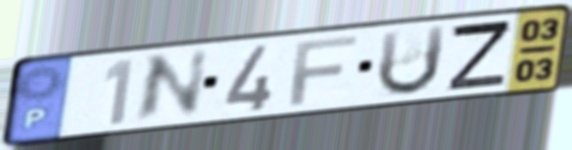1: (103, 57, 136, 127)
4: (220, 41, 277, 113)
F: (286, 33, 361, 107)
N: (129, 46, 213, 127)
U: (373, 22, 450, 100)
Z: (445, 18, 515, 93)
